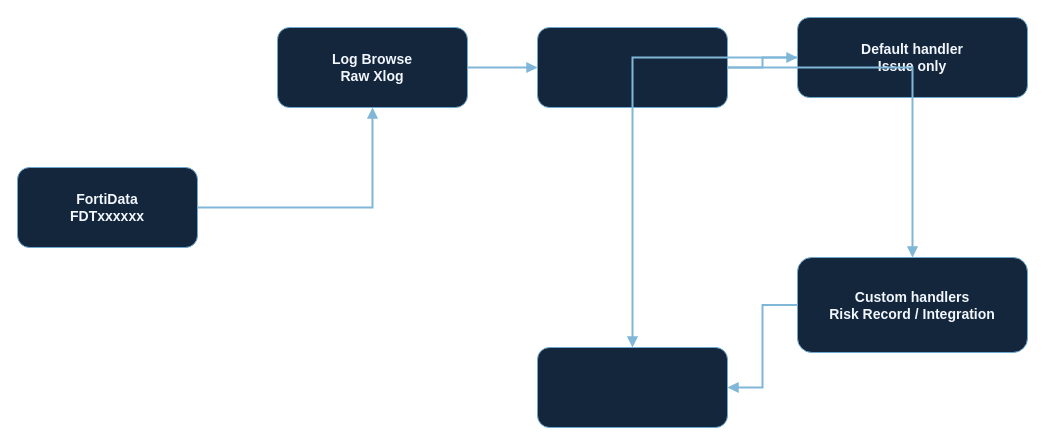
Some shapes in this 1045 by 445 pixel diagram are drawn without their labels. The shapes that lost their labels are listed below. From the top down, each one's centre as x and y in pixels, then its label:
At point (632, 67): "siemdb Logs > All".
At point (632, 387): "Event Monitor Alerts".
